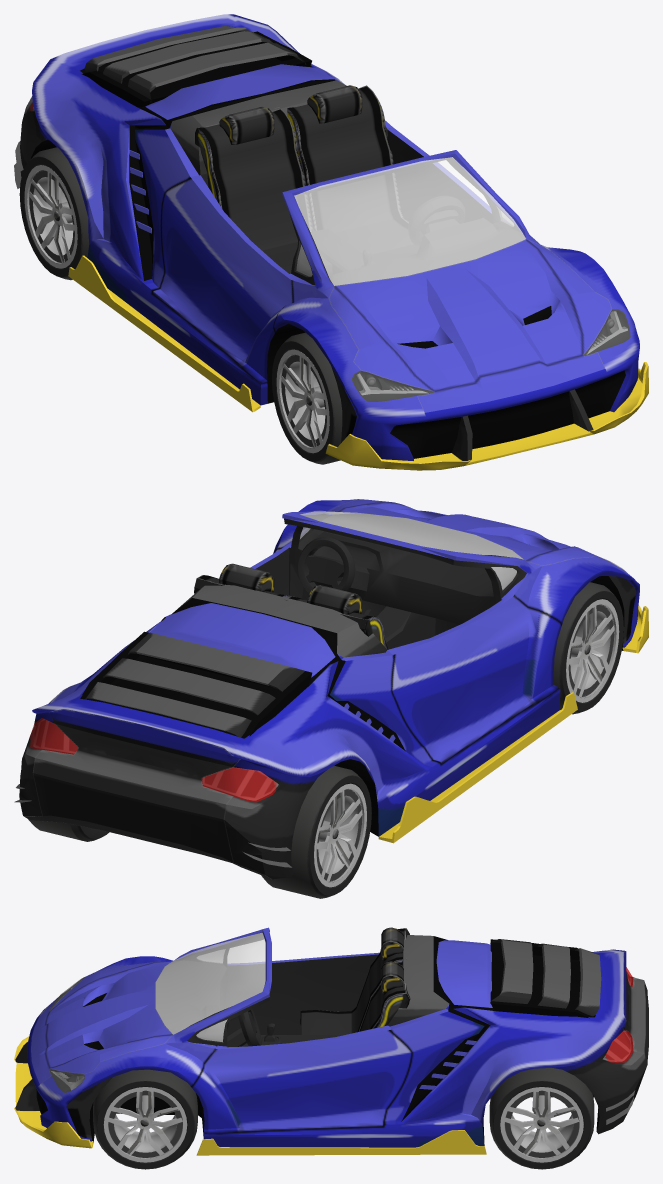
File: supercar.glb
3 renders of one model, top to bottom at view 1: azimuth 30°, elevation 25°; view 2: azimuth 150°, elevation 25°; view 3: azimuth 270°, elevation 25°, orthographic. The views are drawn at different scales.
Parts seen in each view (by area): view 1: HCR2_SC_Body_16, HCR2_SC_Window_14, HCR2_SC_Left_Seat_13, HCR2_SC_Right_Seat_12, HCR2_SC_Interior_11, HCR2_SC_BodyKit_18, HCR2_SC_En_Cover_10, HCR2_SC_FR_Rim_6, HCR2_SC_RR_Rim_4, HCR2_SC_FR_Tire_7, HCR2_SC_RR_Tire_5, HCR2_SC_FLights_20 (+3 smaller); view 2: HCR2_SC_Body_16, HCR2_SC_Interior_11, HCR2_SC_En_Cover_10, HCR2_SC_RR_Tire_5, HCR2_SC_Window_14, HCR2_SC_BodyKit_18, HCR2_SC_RR_Rim_4, HCR2_SC_FR_Rim_6, HCR2_SC_LightsCover_19, HCR2_SC_FR_Tire_7, HCR2_SC_Steer_8, HCR2_SC_Right_Seat_12 (+3 smaller); view 3: HCR2_SC_Body_16, HCR2_SC_Interior_11, HCR2_SC_Window_14, HCR2_SC_En_Cover_10, HCR2_SC_BodyKit_18, HCR2_SC_RL_Rim_0, HCR2_SC_FL_Rim_2, HCR2_SC_RL_Tire_1, HCR2_SC_FL_Tire_3, HCR2_SC_Right_Seat_12, HCR2_SC_Left_Seat_13, HCR2_SC_LightsCover_19 (+3 smaller).
Boxes of the visible parts, x1=… form: HCR2_SC_Body_16: x1=14, y1=14, x2=639, y2=460; HCR2_SC_Window_14: x1=294, y1=157, x2=525, y2=285; HCR2_SC_Left_Seat_13: x1=287, y1=85, x2=418, y2=277; HCR2_SC_Right_Seat_12: x1=195, y1=106, x2=332, y2=275; HCR2_SC_Interior_11: x1=200, y1=129, x2=525, y2=312; HCR2_SC_BodyKit_18: x1=68, y1=255, x2=648, y2=470; HCR2_SC_En_Cover_10: x1=82, y1=26, x2=311, y2=107; HCR2_SC_FR_Rim_6: x1=276, y1=349, x2=329, y2=453; HCR2_SC_RR_Rim_4: x1=24, y1=165, x2=77, y2=268; HCR2_SC_FR_Tire_7: x1=272, y1=332, x2=342, y2=464; HCR2_SC_RR_Tire_5: x1=19, y1=147, x2=89, y2=280; HCR2_SC_FLights_20: x1=352, y1=309, x2=630, y2=401; HCR2_SC_Body_16: x1=14, y1=499, x2=639, y2=879; HCR2_SC_Interior_11: x1=255, y1=513, x2=522, y2=649; HCR2_SC_En_Cover_10: x1=82, y1=631, x2=312, y2=738; HCR2_SC_RR_Tire_5: x1=261, y1=765, x2=371, y2=898; HCR2_SC_Window_14: x1=300, y1=511, x2=523, y2=590; HCR2_SC_BodyKit_18: x1=378, y1=605, x2=648, y2=843; HCR2_SC_RR_Rim_4: x1=314, y1=783, x2=366, y2=887; HCR2_SC_FR_Rim_6: x1=566, y1=599, x2=619, y2=702; HCR2_SC_LightsCover_19: x1=30, y1=557, x2=624, y2=802; HCR2_SC_FR_Tire_7: x1=553, y1=582, x2=623, y2=714; HCR2_SC_Steer_8: x1=298, y1=537, x2=355, y2=593; HCR2_SC_Right_Seat_12: x1=284, y1=585, x2=388, y2=649; HCR2_SC_Body_16: x1=27, y1=927, x2=648, y2=1147; HCR2_SC_Interior_11: x1=156, y1=932, x2=387, y2=1047; HCR2_SC_Window_14: x1=155, y1=932, x2=265, y2=1042; HCR2_SC_En_Cover_10: x1=490, y1=939, x2=601, y2=1018; HCR2_SC_BodyKit_18: x1=14, y1=1036, x2=486, y2=1155; HCR2_SC_RL_Rim_0: x1=500, y1=1087, x2=583, y2=1162; HCR2_SC_FL_Rim_2: x1=103, y1=1087, x2=187, y2=1162; HCR2_SC_RL_Tire_1: x1=489, y1=1068, x2=594, y2=1169; HCR2_SC_FL_Tire_3: x1=93, y1=1069, x2=197, y2=1169; HCR2_SC_Right_Seat_12: x1=300, y1=927, x2=409, y2=1034; HCR2_SC_Left_Seat_13: x1=359, y1=961, x2=410, y2=1031; HCR2_SC_LightsCover_19: x1=49, y1=967, x2=633, y2=1092.
Bounding box in the file's own units: 2.18 × 1.35 × 4.7.
Materials: 4 (2 with a texture image).
